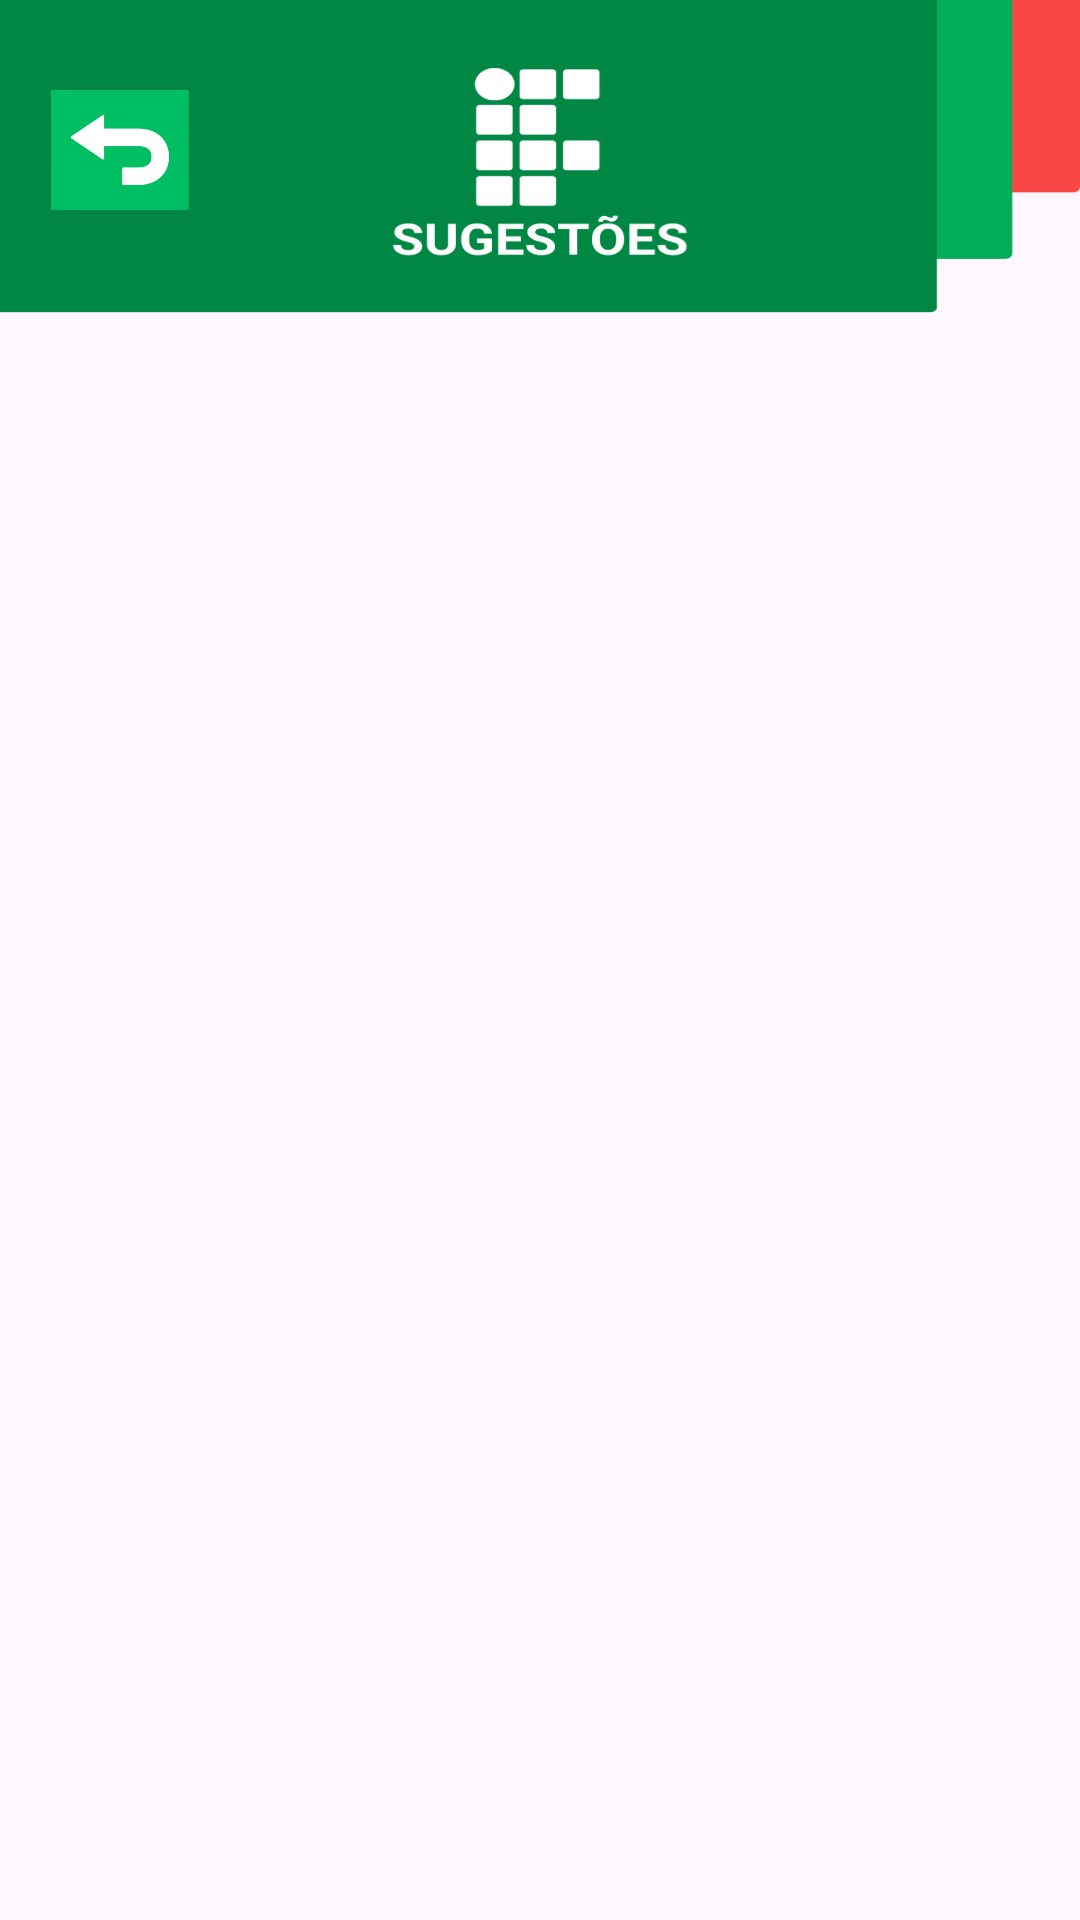

Locate icon controls on the screen. Image size 1080px x 1920px, boxes as (x1, y1, x2, y2).
voltar: (51, 90, 189, 210)
